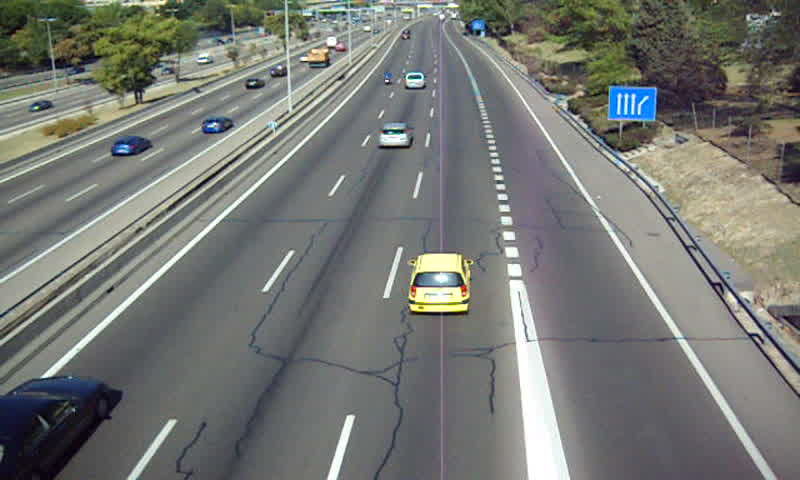car: (406, 254, 474, 316), (378, 123, 414, 150), (404, 73, 424, 90)
motorcycle: (382, 72, 392, 87)
